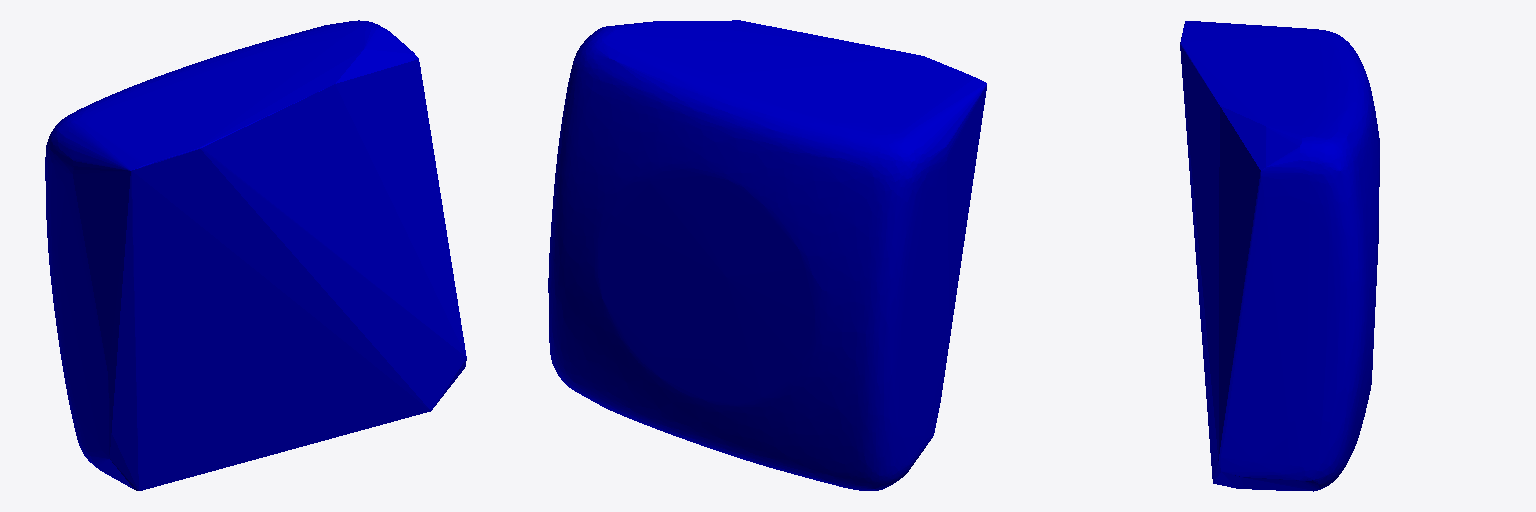
robot.urdf — radio_model:
<?xml version="1.0" ?>
<!-- =================================================================================== -->
<!-- |    This document was autogenerated by xacro from radio_model.xacro              | -->
<!-- |    EDITING THIS FILE BY HAND IS NOT RECOMMENDED                                 | -->
<!-- =================================================================================== -->
<robot name="radio_model">
  <link name="world"/>
  <link name="radio_model_base_link">
    <visual>
      <geometry>
        <mesh filename="package://radio_model/radio_model_description/meshes/plug.stl"/>
      </geometry>
      <material name="blue">
        <color rgba="0 0 .8 1"/>
      </material>
    </visual>
  </link>
  <joint name="radio_model_base_joint" type="fixed">
    <parent link="world"/>
    <child link="radio_model_base_link"/>
    <origin xyz="0 0 0"/>
  </joint>
</robot>

--- Render facts (derived) ---
3 views of the same robot in one strip: view 1: azimuth 30°, elevation 25°; view 2: azimuth 150°, elevation 25°; view 3: azimuth 270°, elevation 25° (orthographic).
Robot: radio_model — 2 links, 1 joints (1 fixed); root link world; default pose: every joint at zero.
Visible links, largest first — view 1: radio_model_base_link; view 2: radio_model_base_link; view 3: radio_model_base_link.
Boxes of the visible links, bbox=[...] form: radio_model_base_link: bbox=[45, 20, 466, 490]; radio_model_base_link: bbox=[548, 20, 986, 490]; radio_model_base_link: bbox=[1180, 21, 1379, 491].
Bounding box of the posed robot: 64.01 × 31.62 × 63.97 m (x, y, z).
1 mesh visuals loaded from 1 distinct referenced files (1 binary STL).